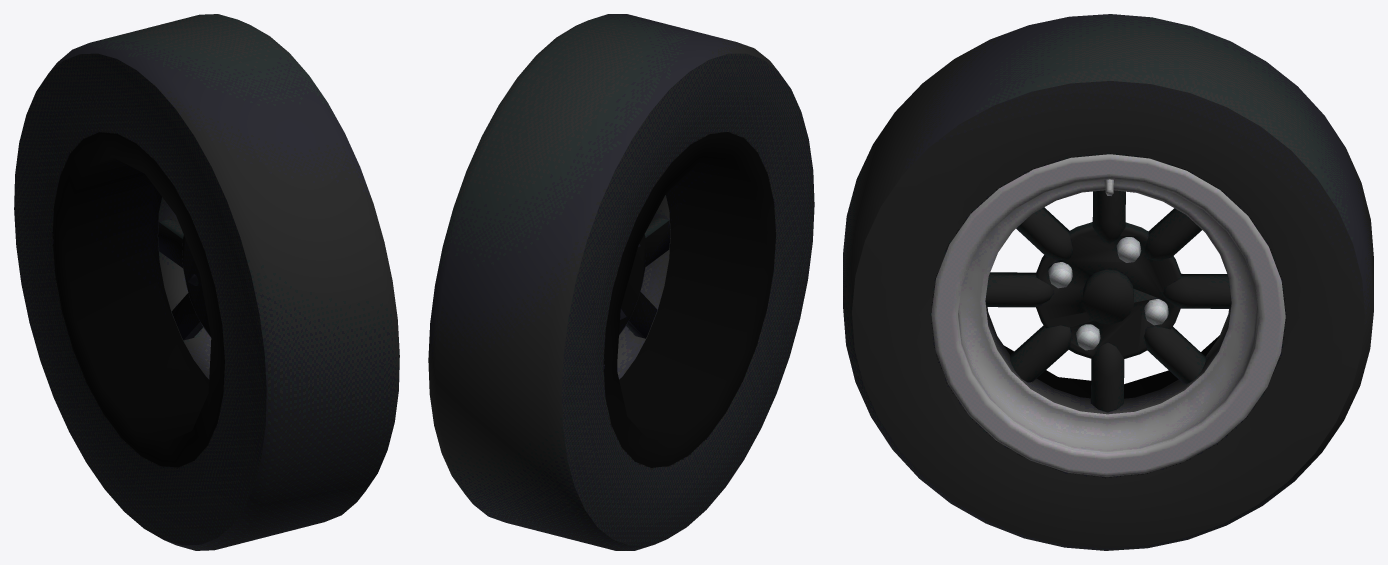
Rendered from ford_escort_rs2000_1971_wheel_front_right.glb.
3 views of the same model, side by side, from view 1: azimuth 30°, elevation 25°; view 2: azimuth 150°, elevation 25°; view 3: azimuth 270°, elevation 25° (orthographic).
Visible parts, largest first — view 1: EscortMk1_Wheel_front_right; view 2: EscortMk1_Wheel_front_right; view 3: EscortMk1_Wheel_front_right.
Boxes of the visible parts, box(x1,y1,x2,y2) form: EscortMk1_Wheel_front_right: box(14, 14, 399, 550); EscortMk1_Wheel_front_right: box(428, 14, 814, 550); EscortMk1_Wheel_front_right: box(843, 14, 1373, 550).
Bounding box in the file's own units: 0.1762 × 0.5426 × 0.5411.
Materials: 1 (1 with a texture image).
